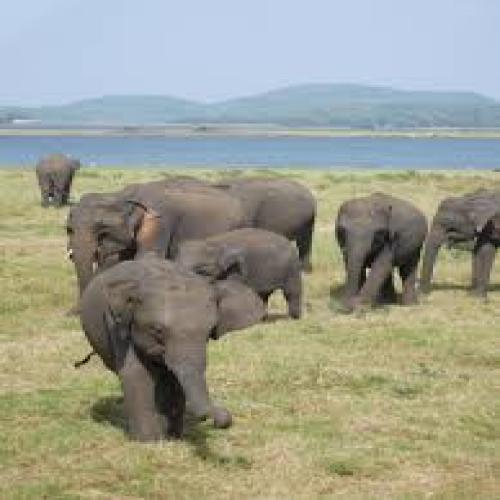asian_elephant-endangered: (74, 259, 271, 436), (66, 180, 247, 290), (332, 194, 424, 310), (420, 185, 500, 292), (38, 154, 80, 206)
